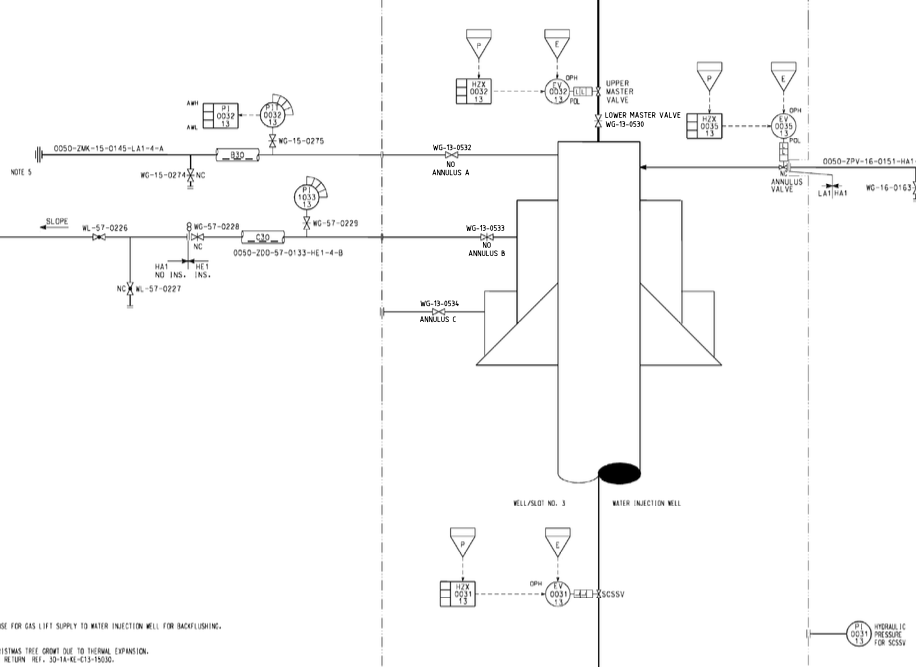Instrument: (543, 576, 574, 611), (767, 110, 802, 141), (842, 617, 873, 648), (541, 77, 574, 106), (291, 181, 322, 211), (257, 100, 287, 130)
Instrument-square: (445, 73, 497, 107), (681, 107, 726, 143), (437, 575, 480, 608), (210, 98, 243, 131)
